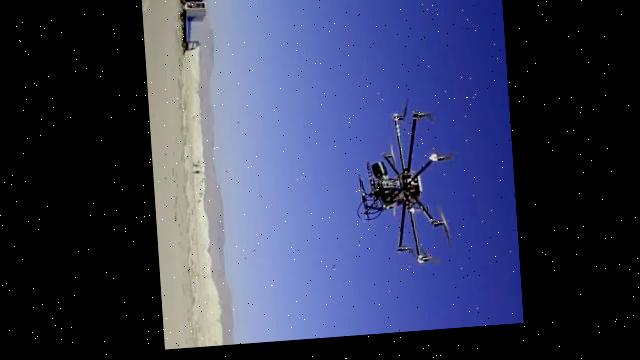drone: (140, 0, 230, 352)
